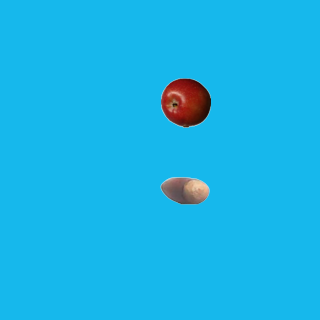Apple Braeburn: (160, 77, 210, 127)
Hazelnut: (159, 165, 209, 215)
